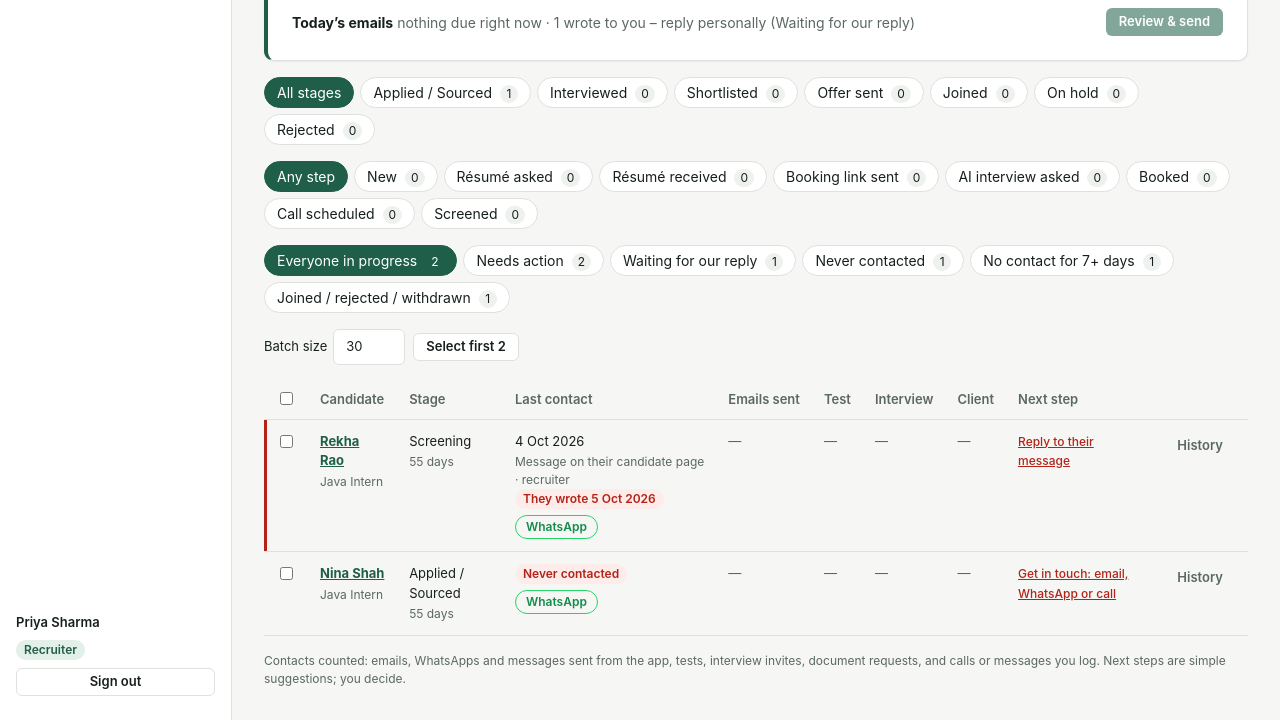
Test case: WorkflowPage (WF-01…WF-05) › opens WhatsApp with a suggested message and records it
(page scrolled)
Click the button with aria-label "WhatsApp Nina Shah": (556, 602) [515, 590, 598, 614]
(page scrolled)
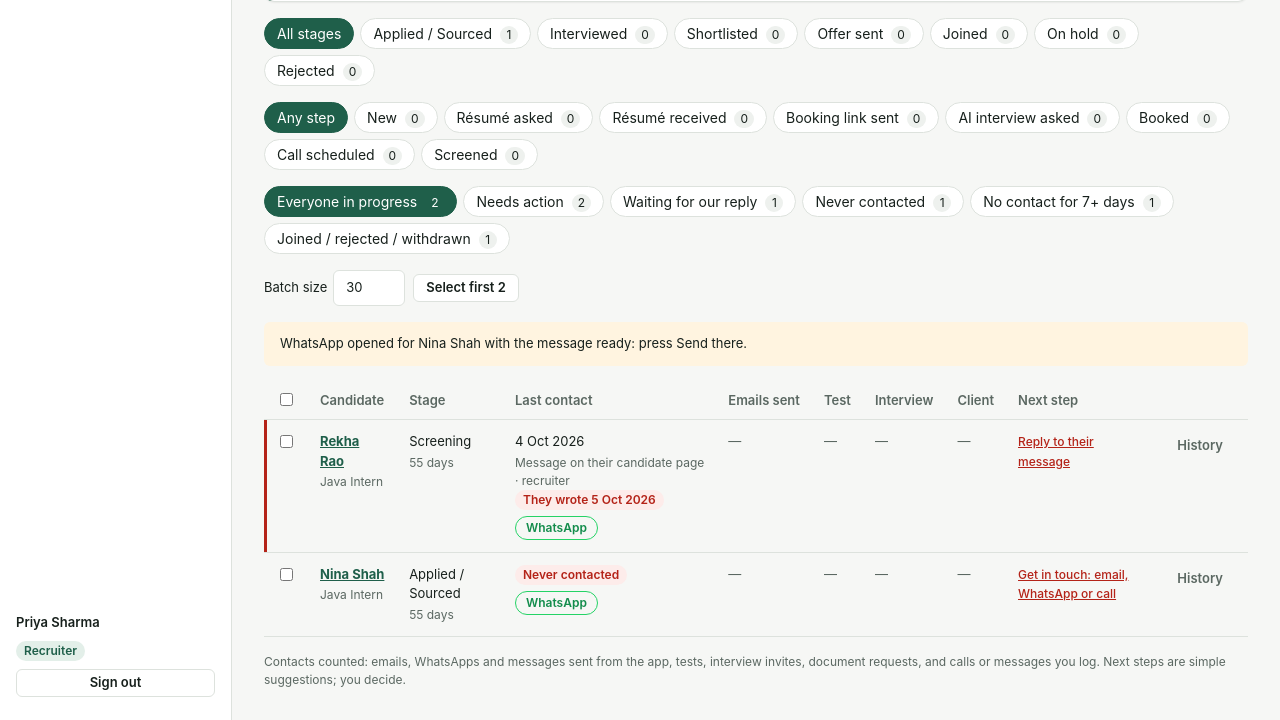
Expected: the text "WhatsApp opened for Nina Shah" is shown, [280, 335, 747, 351]
